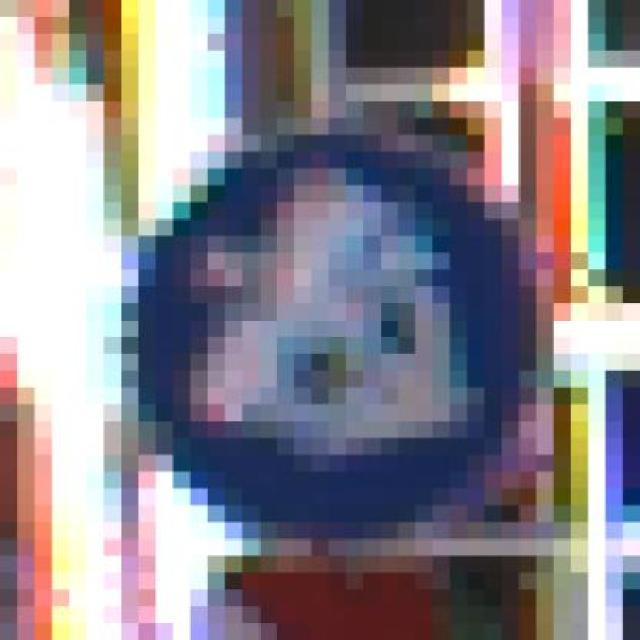Keep-Right: (104, 135, 588, 539)
